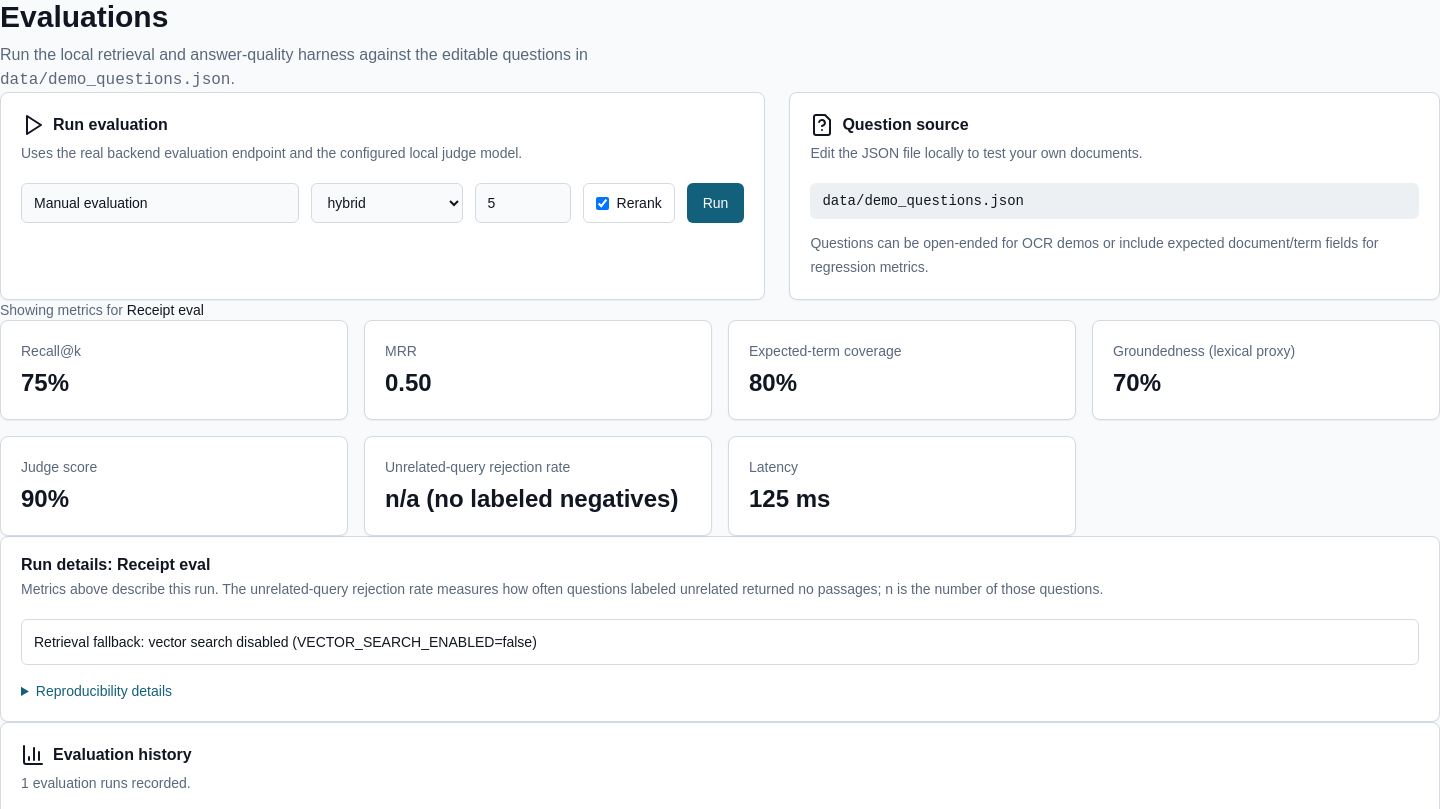
Scenario: release status visibility › shows saved effective settings including floor 0
The image size is (1440, 809).
Expected: the heading "Run details: Receipt eval" is shown, [21,556,210,573]
Click the heading "Reproducibility details" at (104, 691), box [36,683,172,699]
(page scrolled)
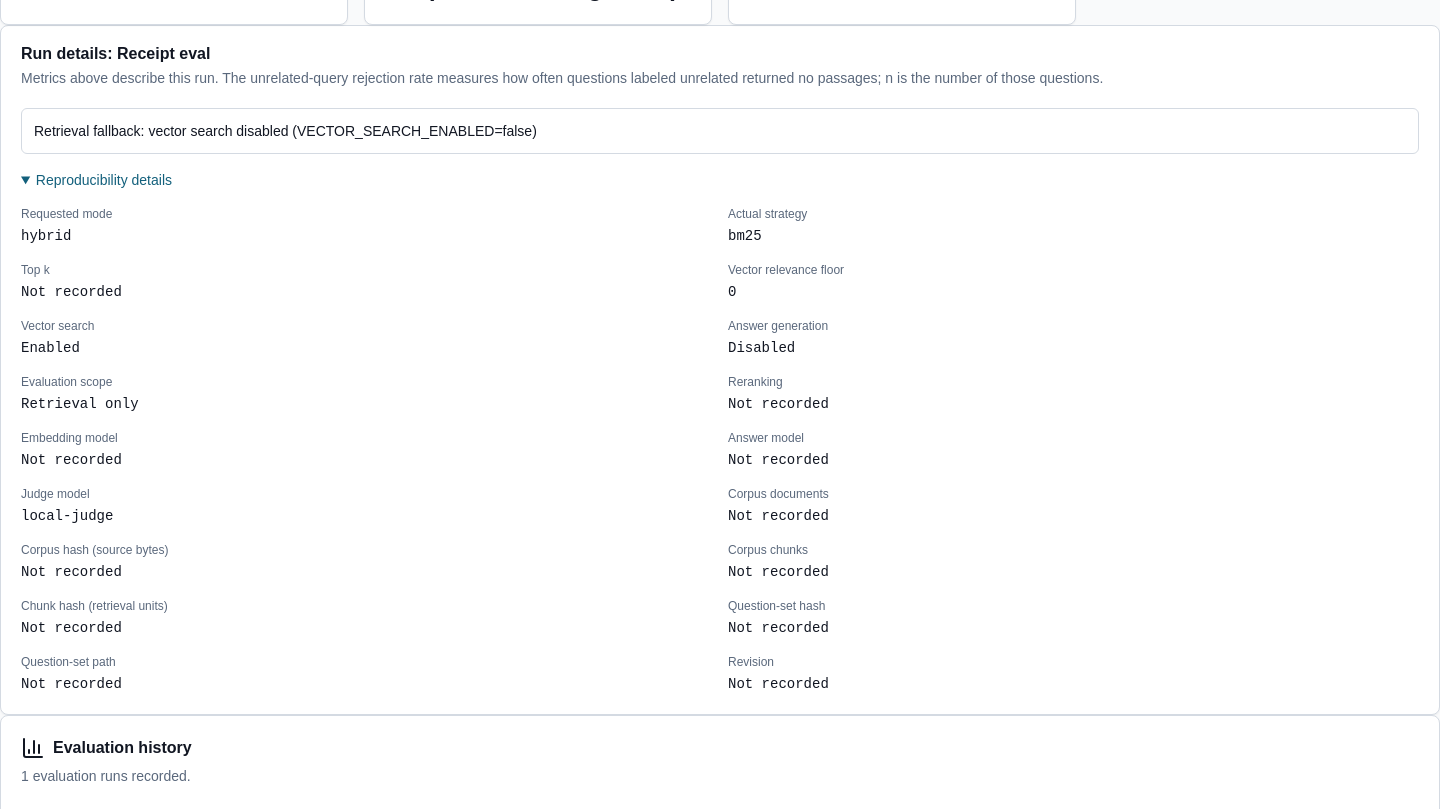
Result: the text "0" is shown at [728,284,736,300]
Result: the text "Enabled" is shown at [21,340,80,356]
Result: the text "Disabled" is shown at [728,340,795,356]
